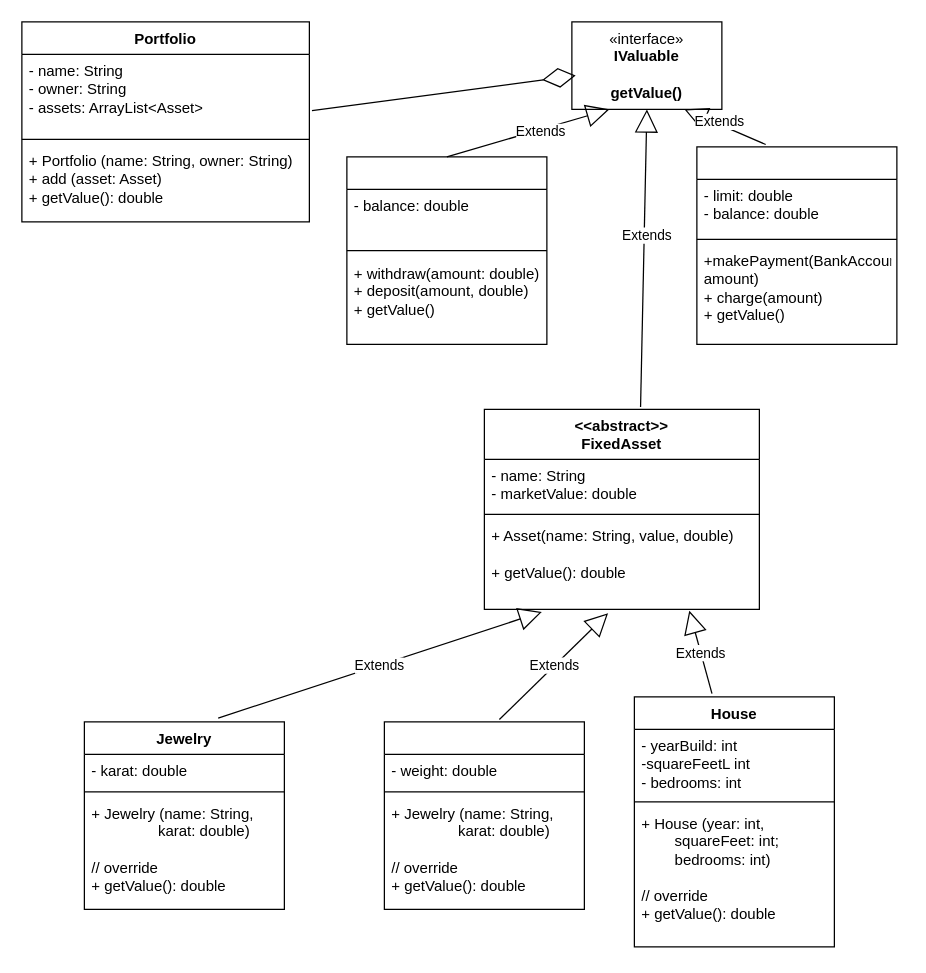
Some shapes in this 926 by 973 pixel diagram are drawn without their labels. The box of each missing label's shape, as (x1, y1, x2, y2) in pixels:
BankAccount: (346, 156, 547, 344)
CreditCard: (696, 146, 897, 344)
Gold: (383, 721, 584, 909)
